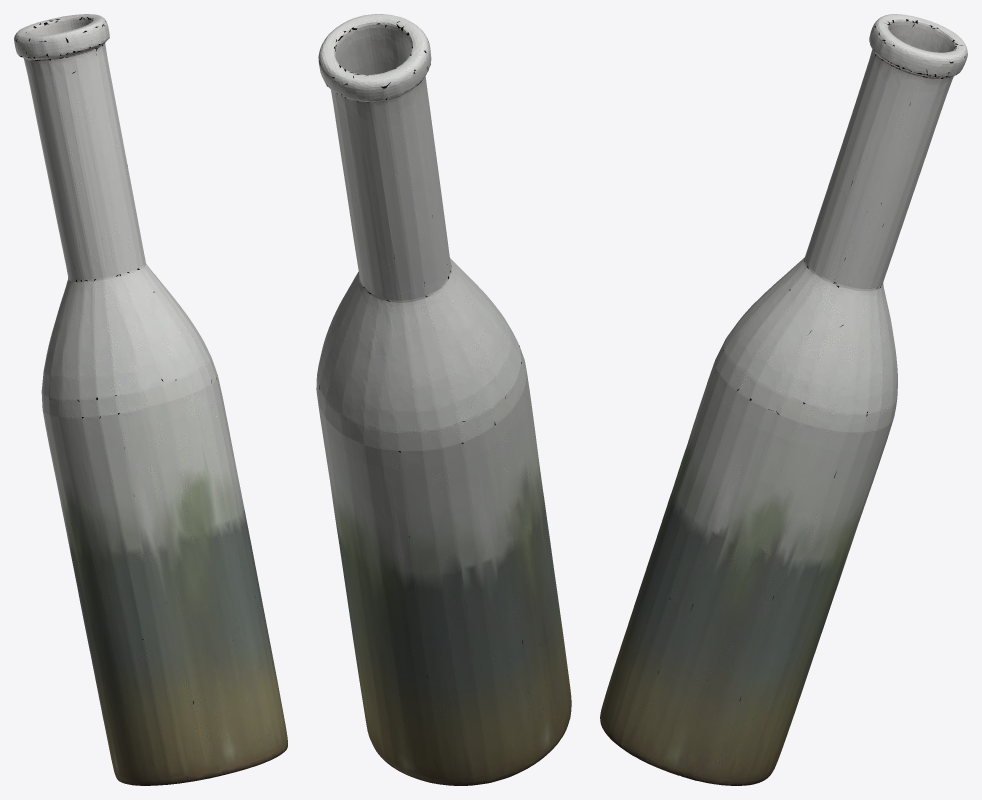
Rendered from pair_of_glass_vases_with_plants_on_console_table_000.glb.
The picture shows the model from 3 angles, left to right: view 1: azimuth 30°, elevation 25°; view 2: azimuth 150°, elevation 25°; view 3: azimuth 270°, elevation 25°; orthographic projection. The views are drawn at different scales.
Visible parts, largest first — view 1: pair_of_glass_vases_with_plants_on_console_table_000.obj; view 2: pair_of_glass_vases_with_plants_on_console_table_000.obj; view 3: pair_of_glass_vases_with_plants_on_console_table_000.obj.
Part boxes in pixels (x1,y1,x2,y2): pair_of_glass_vases_with_plants_on_console_table_000.obj: (14,14,287,785); pair_of_glass_vases_with_plants_on_console_table_000.obj: (316,14,571,785); pair_of_glass_vases_with_plants_on_console_table_000.obj: (600,14,967,785).
Size of the model in its own units: 0.0414 by 0.1633 by 0.0746.
1 material, 1 textured.
